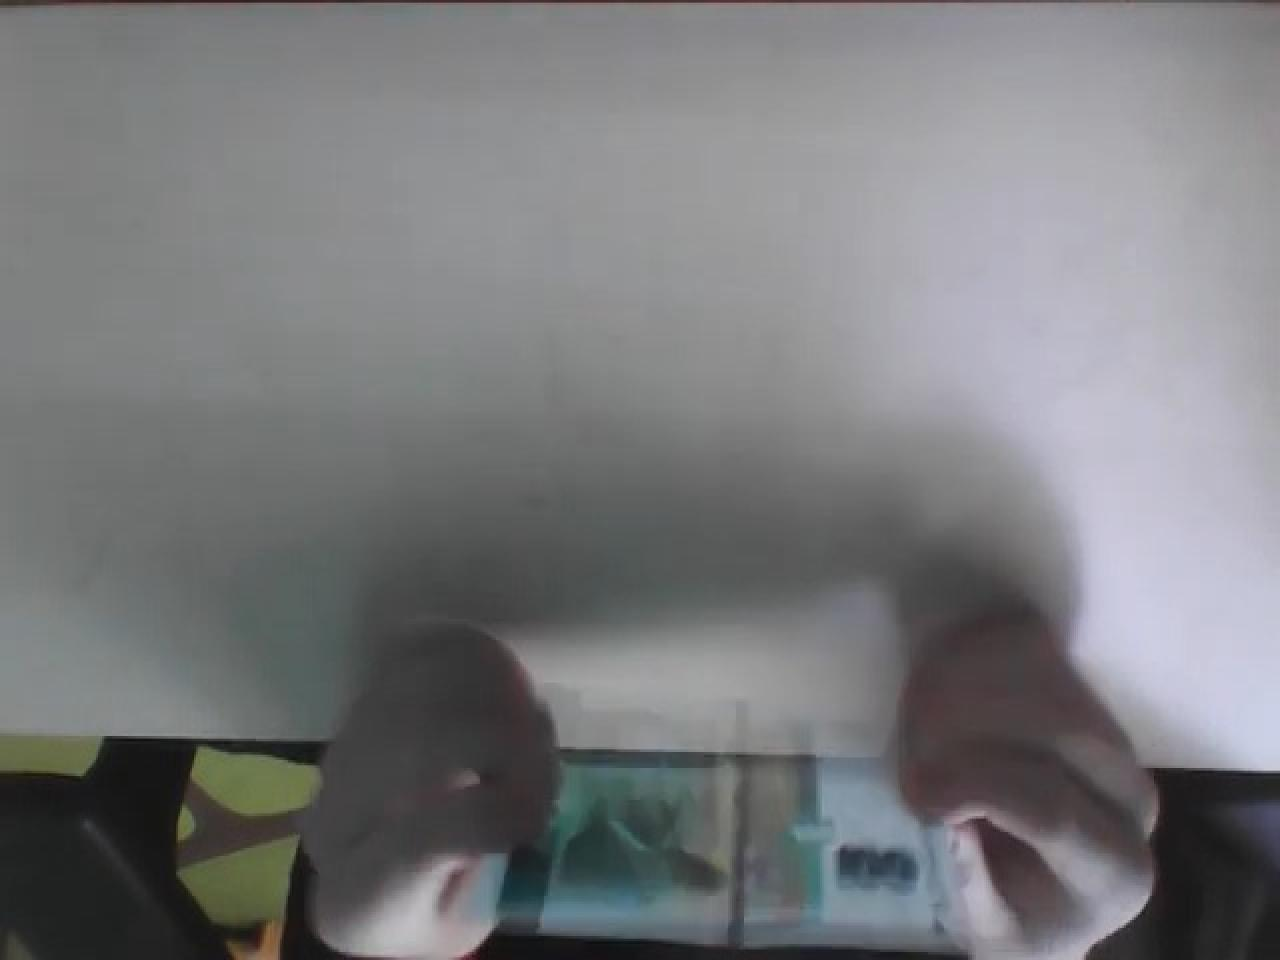100leva: (488, 747, 962, 952)
